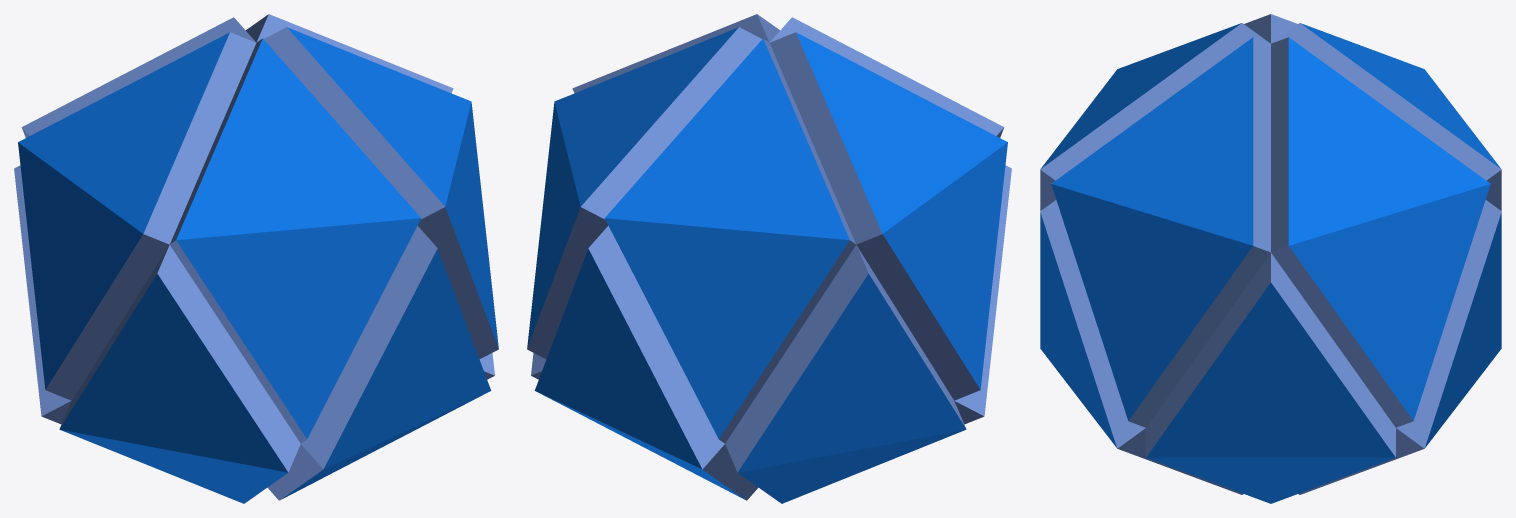
Rendered from ResearchPack.fbx.
3 views of the same model, side by side, from view 1: azimuth 30°, elevation 25°; view 2: azimuth 150°, elevation 25°; view 3: azimuth 270°, elevation 25° (orthographic).
Parts seen in each view (by area): view 1: Research Pack; view 2: Research Pack; view 3: Research Pack.
Boxes of the visible parts, x1,y1,x2,y2 form: Research Pack: [14, 14, 498, 503]; Research Pack: [527, 14, 1011, 503]; Research Pack: [1040, 14, 1501, 503].
Size of the model in its own units: 20440 by 21577 by 19440.
